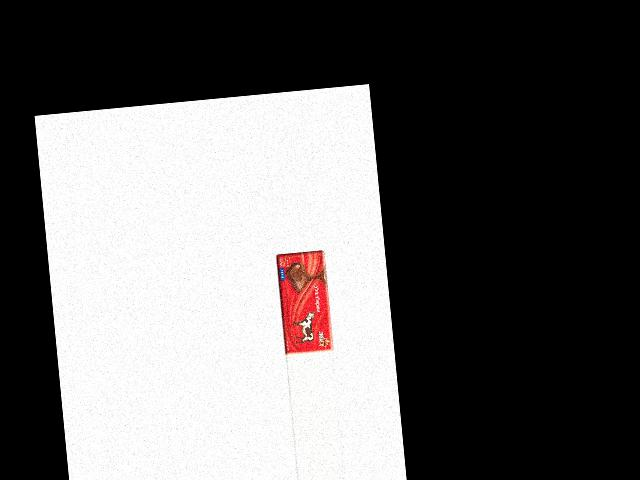chocolate: (276, 249, 334, 356)
